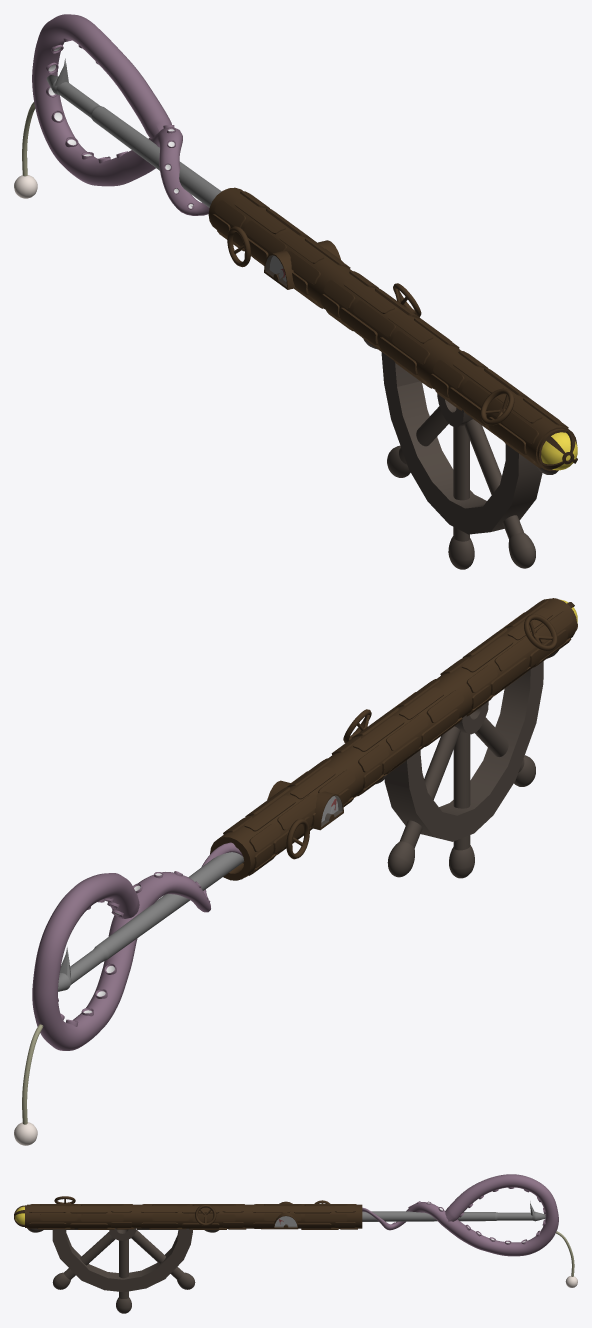
File: SM_tribouillois_keyblade_nautilus_001.fbx
The picture shows the model from 3 angles, top to bottom: view 1: azimuth 30°, elevation 25°; view 2: azimuth 150°, elevation 25°; view 3: azimuth 270°, elevation 25°; orthographic projection. The views are drawn at different scales.
Parts seen in each view (by area): view 1: polySurface76, polySurface131, polySurface48, polySurface68, polySurface151, polySurface40; view 2: polySurface76, polySurface131, polySurface48, polySurface68, polySurface40; view 3: polySurface76, polySurface131, polySurface48, polySurface68, polySurface40, polySurface154, polySurface151.
Boxes of the visible parts, x1,y1,x2,y2 form: polySurface76: (208, 187, 577, 471); polySurface131: (363, 339, 558, 569); polySurface48: (32, 14, 209, 215); polySurface68: (46, 58, 221, 207); polySurface151: (541, 431, 577, 470); polySurface40: (264, 240, 340, 289); polySurface76: (210, 598, 576, 880); polySurface131: (375, 650, 558, 878); polySurface48: (32, 842, 242, 1050); polySurface68: (58, 852, 244, 991); polySurface40: (267, 780, 343, 830); polySurface76: (25, 1196, 362, 1229); polySurface131: (28, 1228, 218, 1313); polySurface48: (362, 1174, 558, 1256); polySurface68: (362, 1201, 545, 1221); polySurface40: (274, 1201, 297, 1228); polySurface154: (274, 1216, 297, 1227); polySurface151: (14, 1205, 24, 1226).
Bounding box in the file's own units: 31.09 × 115 × 425.
